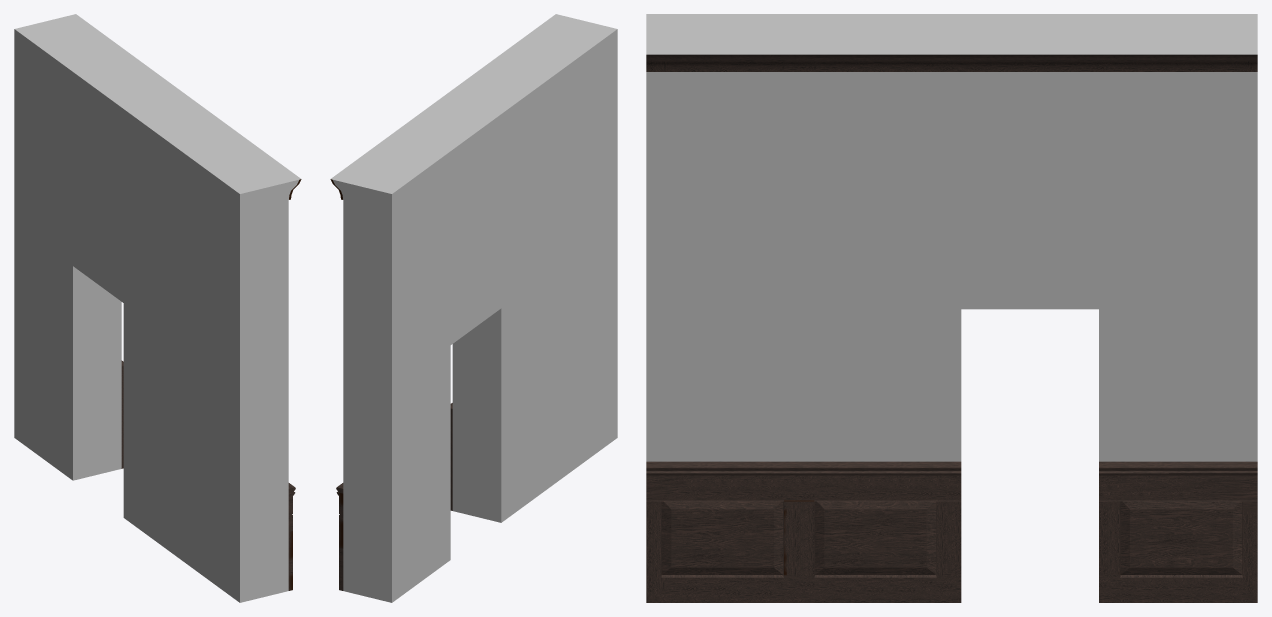
Rendered from wall-panelling-door-right.fbx.
The picture shows the model from 3 angles, left to right: view 1: azimuth 30°, elevation 25°; view 2: azimuth 150°, elevation 25°; view 3: azimuth 270°, elevation 25°; orthographic projection. The views are drawn at different scales.
Parts seen in each view (by area): view 1: wall-panelling-door-right; view 2: wall-panelling-door-right; view 3: wall-panelling-door-right.
Boxes of the visible parts, x1=… form: wall-panelling-door-right: x1=14, y1=14, x2=301, y2=602; wall-panelling-door-right: x1=330, y1=14, x2=617, y2=602; wall-panelling-door-right: x1=646, y1=14, x2=1257, y2=602.
Bounding box in the file's own units: 63.08 × 400 × 400.
